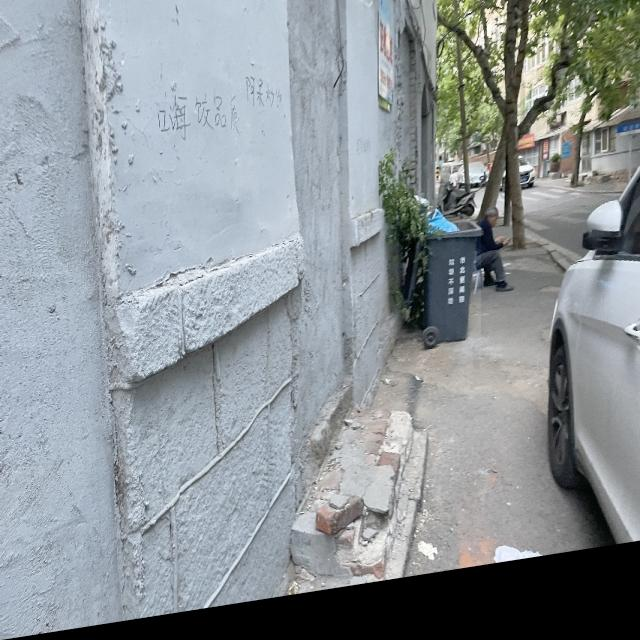overflow: (423, 215, 481, 361)
